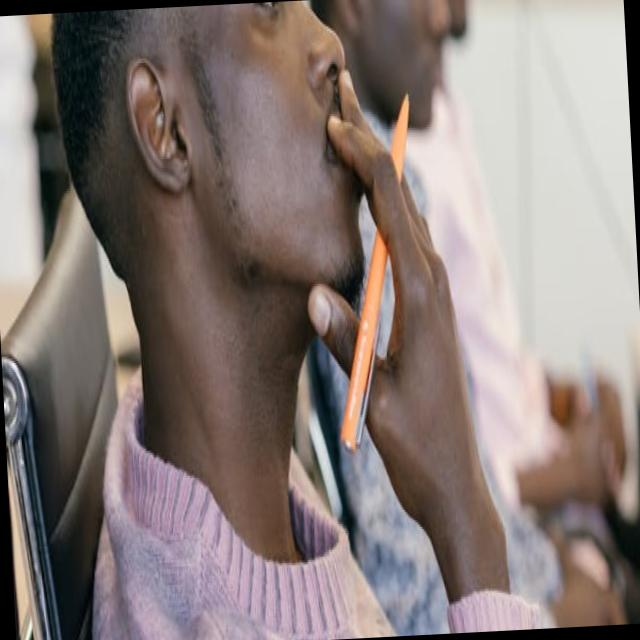pen: (332, 62, 425, 471)
